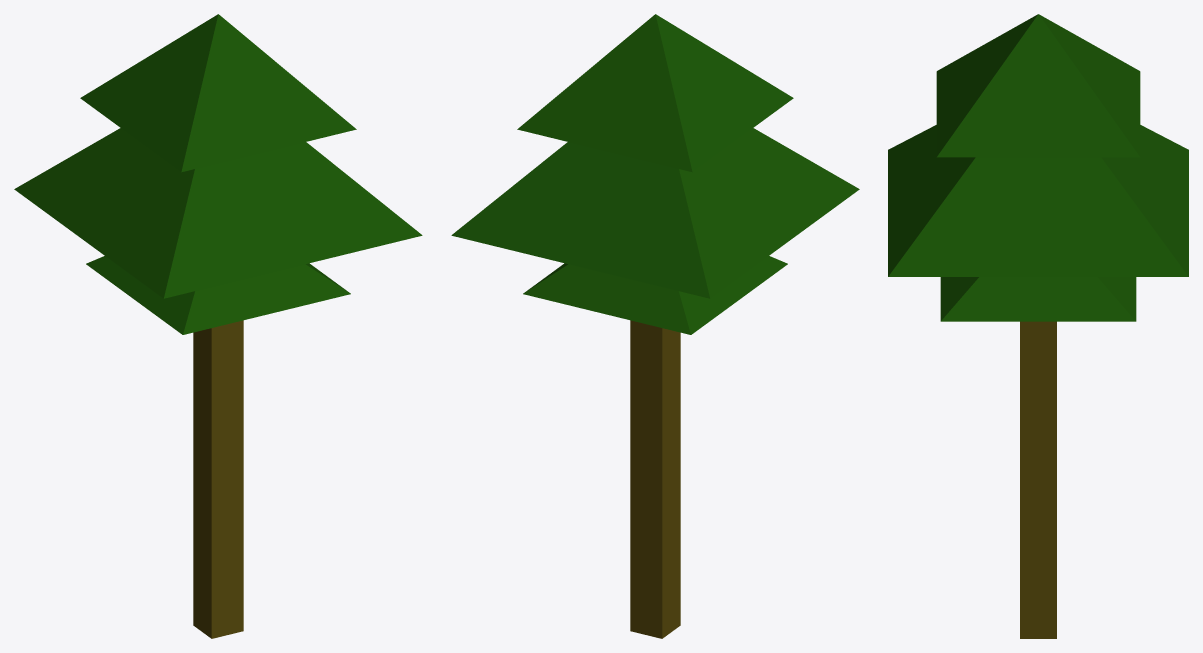
The model's file is Tree_3.fbx.
The picture shows the model from 3 angles, left to right: view 1: azimuth 30°, elevation 25°; view 2: azimuth 150°, elevation 25°; view 3: azimuth 270°, elevation 25°; orthographic projection.
Visible parts, largest first — view 1: Cube; view 2: Cube; view 3: Cube.
Boxes of the visible parts, x1,y1,x2,y2 form: Cube: (14,14,422,638); Cube: (451,14,859,638); Cube: (888,14,1188,638).
Size of the model in its own units: 1630 by 3693 by 1630.
